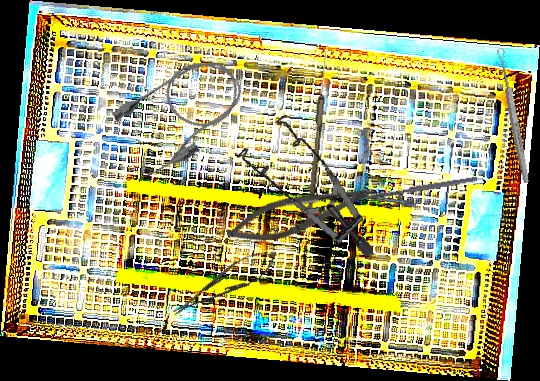Cannula: (104, 44, 258, 185)
Micro Scissor: (222, 167, 379, 257)
Needle Holder: (166, 241, 284, 325), (359, 175, 480, 217)
Speculum: (231, 104, 374, 276)
Surgical Spoon: (496, 47, 531, 184), (305, 51, 330, 225)
